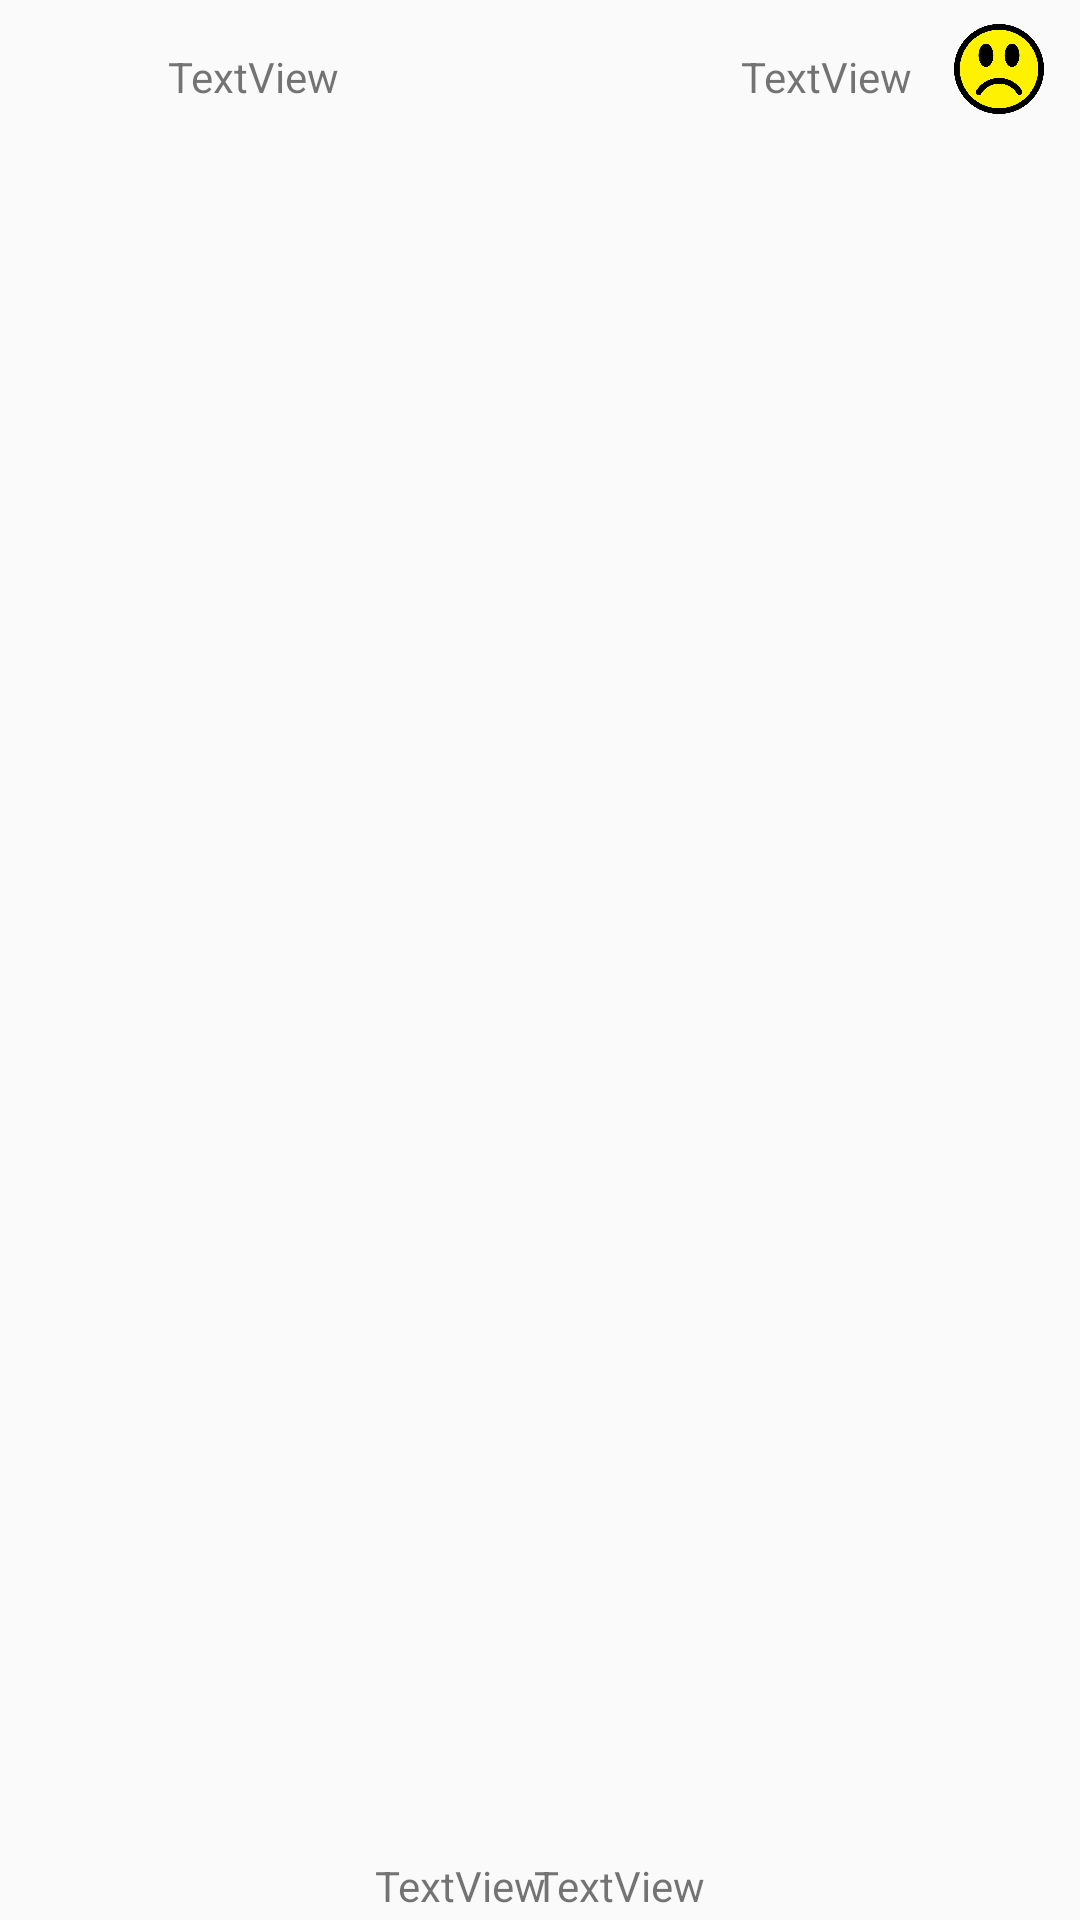

Icon click points for this 1080w x 1920h phone screenshot, format (x,y):
smiley: (999,69)
